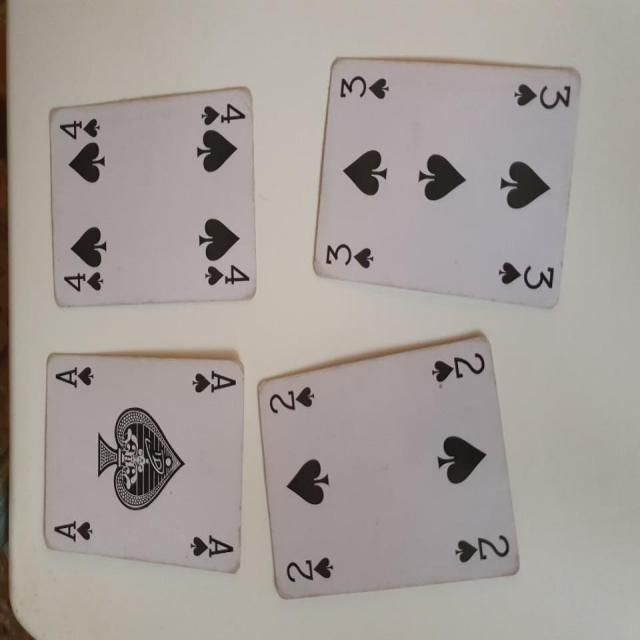2 of spades: (256, 332, 526, 604)
3 of spades: (308, 52, 584, 320)
4 of spades: (46, 82, 257, 305)
ace of spades: (42, 354, 244, 576)
